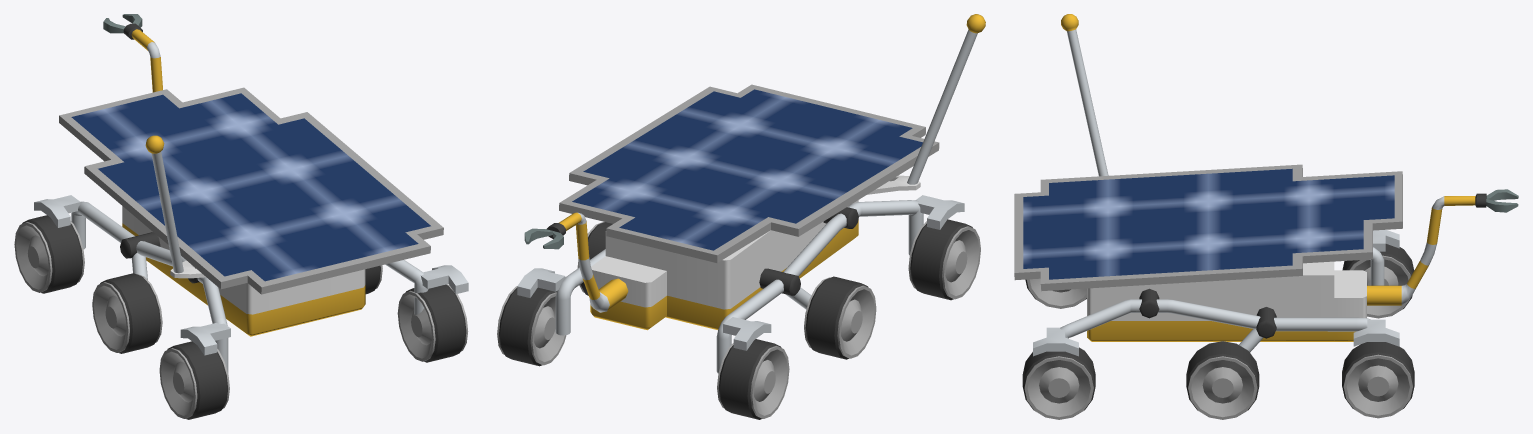
Rendered from Widget.fbx.
The picture shows the model from 3 angles, left to right: view 1: azimuth 30°, elevation 25°; view 2: azimuth 150°, elevation 25°; view 3: azimuth 270°, elevation 25°; orthographic projection. The views are drawn at different scales.
Visible parts, largest first — view 1: Widget; view 2: Widget; view 3: Widget.
Part boxes in pixels (x1=…): Widget: x1=14, y1=14, x2=468, y2=419; Widget: x1=497, y1=14, x2=985, y2=419; Widget: x1=1014, y1=14, x2=1518, y2=419.
Size of the model in its own units: 33.9 by 30.32 by 51.09.
